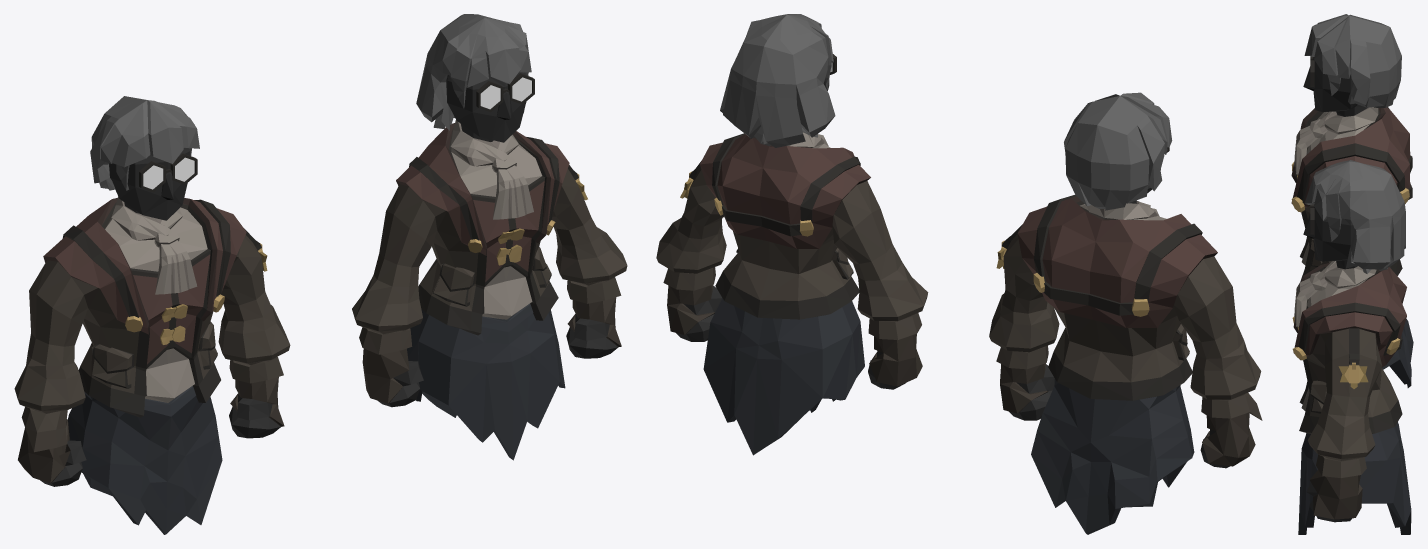
Rendered from ghost_scholars.fbx.
The picture shows the model from 3 angles, left to right: view 1: azimuth 30°, elevation 25°; view 2: azimuth 150°, elevation 25°; view 3: azimuth 270°, elevation 25°; orthographic projection. The views are drawn at different scales.
Parts seen in each view (by area): view 1: ghost_deadscholars:male, ghost_deadscholars:female; view 2: ghost_deadscholars:male, ghost_deadscholars:female; view 3: ghost_deadscholars:female, ghost_deadscholars:male.
Boxes of the visible parts, x1=… form: ghost_deadscholars:male: x1=14, y1=96, x2=290, y2=534; ghost_deadscholars:female: x1=352, y1=14, x2=627, y2=460; ghost_deadscholars:male: x1=989, y1=92, x2=1262, y2=534; ghost_deadscholars:female: x1=656, y1=14, x2=928, y2=455; ghost_deadscholars:female: x1=1292, y1=160, x2=1411, y2=534; ghost_deadscholars:male: x1=1291, y1=14, x2=1413, y2=387.
Size of the model in its own units: 1187 by 792 by 234.
